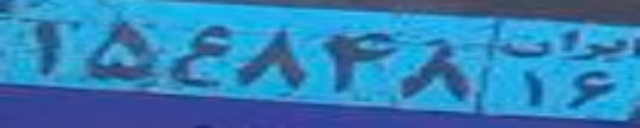1: (35, 19, 60, 76), (519, 67, 548, 107)
4: (320, 31, 397, 94)
5: (85, 21, 158, 80)
6: (566, 70, 614, 109)
8: (397, 40, 477, 100), (239, 27, 306, 87)
ain: (166, 24, 232, 88)
